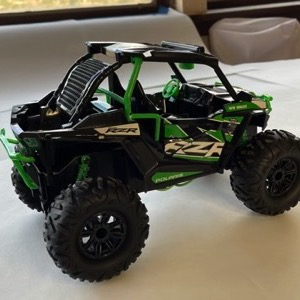polaris: (2, 40, 298, 284)
